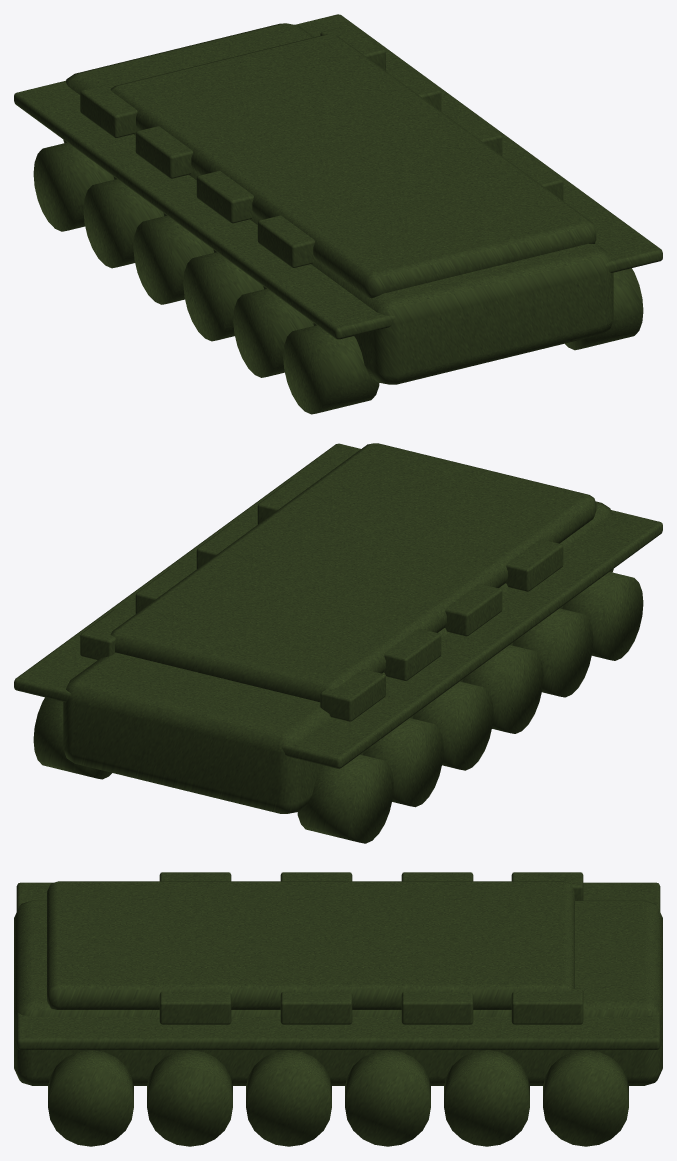
The picture shows the model from 3 angles, top to bottom: view 1: azimuth 30°, elevation 25°; view 2: azimuth 150°, elevation 25°; view 3: azimuth 270°, elevation 25°; orthographic projection.
Size of the model in its own units: 3.41 by 1.38 by 5.9.
1 material, 1 textured.
